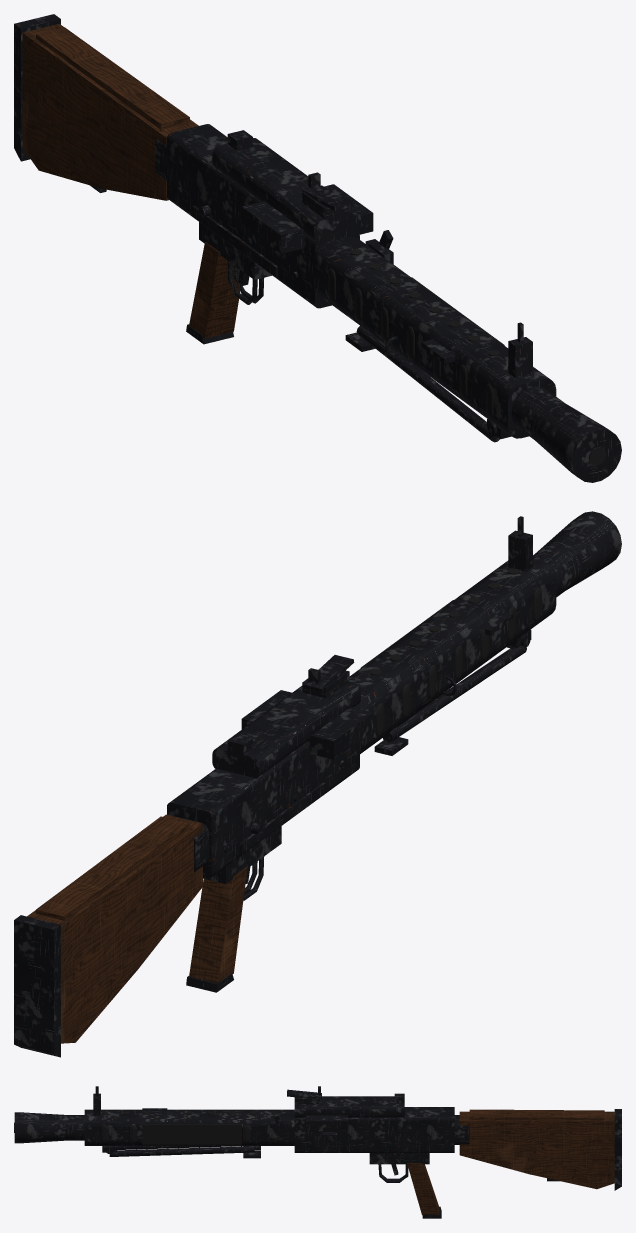
The picture shows the model from 3 angles, top to bottom: view 1: azimuth 30°, elevation 25°; view 2: azimuth 150°, elevation 25°; view 3: azimuth 270°, elevation 25°; orthographic projection. The views are drawn at different scales.
Visible parts, largest first — view 1: MG42; view 2: MG42; view 3: MG42.
Boxes of the visible parts, <box> form: MG42: <box>14,14,621,482</box>; MG42: <box>14,511,621,1057</box>; MG42: <box>14,1086,621,1218</box>.
Size of the model in its own units: 0.118 by 0.283 by 1.22.
3 materials, 2 textured.
